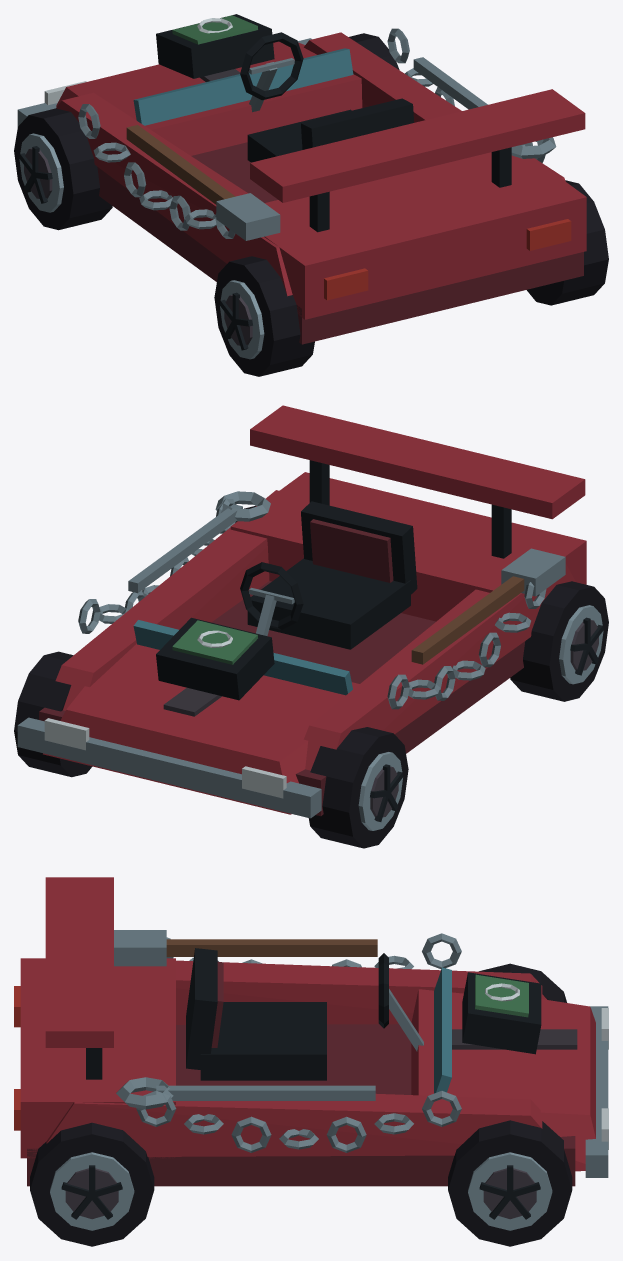
The model's file is kart.glb.
3 views of the same model, one above another, from view 1: azimuth 30°, elevation 25°; view 2: azimuth 150°, elevation 25°; view 3: azimuth 270°, elevation 25° (orthographic). The views are drawn at different scales.
Visible parts, largest first — view 1: identity-sports-car-sports-car-road-car-body, wheel-front-left, wheel-rear-left, identity-sports-car-driver-cockpit, identity-sports-car-motif-tools, identity-sports-car-motif-scanner, identity-sports-car-motif-chains, wheel-rear-right, wheel-front-right; view 2: identity-sports-car-sports-car-road-car-body, identity-sports-car-driver-cockpit, wheel-front-left, wheel-rear-left, identity-sports-car-motif-tools, identity-sports-car-motif-scanner, identity-sports-car-motif-chains, wheel-front-right; view 3: identity-sports-car-sports-car-road-car-body, identity-sports-car-driver-cockpit, wheel-front-right, wheel-rear-right, identity-sports-car-motif-tools, identity-sports-car-motif-chains, identity-sports-car-motif-scanner, wheel-front-left.
Boxes of the visible parts, x1,y1,x2,y2 form: identity-sports-car-sports-car-road-car-body: (17, 32, 586, 344); wheel-front-left: (14, 108, 112, 230); wheel-rear-left: (214, 256, 314, 376); identity-sports-car-driver-cockpit: (240, 32, 414, 162); identity-sports-car-motif-tools: (126, 57, 556, 240); identity-sports-car-motif-scanner: (156, 14, 274, 78); identity-sports-car-motif-chains: (78, 28, 545, 238); wheel-rear-right: (527, 180, 608, 305); wheel-front-right: (349, 33, 399, 69); identity-sports-car-sports-car-road-car-body: (17, 405, 586, 818); identity-sports-car-driver-cockpit: (240, 501, 417, 649); wheel-front-left: (308, 727, 408, 848); wheel-rear-left: (510, 581, 608, 701); identity-sports-car-motif-tools: (128, 491, 565, 664); identity-sports-car-motif-scanner: (156, 617, 274, 700); identity-sports-car-motif-chains: (78, 498, 546, 709); wheel-front-right: (14, 651, 92, 777); identity-sports-car-sports-car-road-car-body: (14, 877, 608, 1186); identity-sports-car-driver-cockpit: (186, 948, 423, 1080); wheel-front-right: (448, 1120, 572, 1246); wheel-rear-right: (30, 1122, 154, 1246); identity-sports-car-motif-tools: (114, 930, 377, 1109); identity-sports-car-motif-chains: (136, 933, 461, 1152); identity-sports-car-motif-scanner: (462, 972, 541, 1054); wheel-front-left: (479, 963, 566, 1002).
Size of the model in its own units: 2.07 by 1.11 by 2.88.
